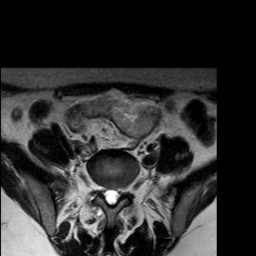CCS_normal: (108, 178, 114, 212)
LFS_normal: (121, 175, 128, 199)
LLS_normal: (114, 179, 121, 207)
RFS_stenosis: (95, 175, 102, 198)
RLS_normal: (102, 177, 108, 206)
